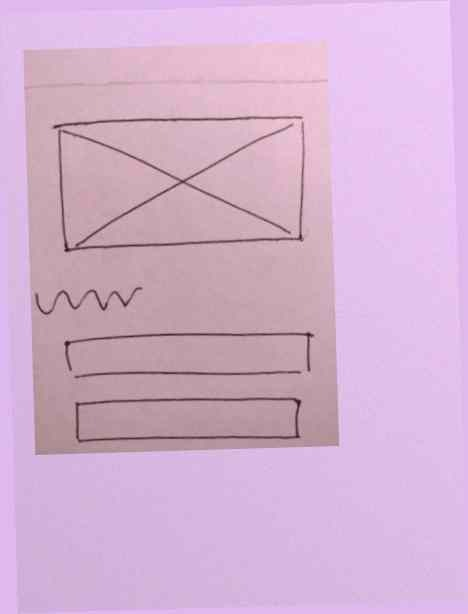image: (45, 104, 321, 267)
text: (32, 283, 146, 320)
text_input: (59, 324, 319, 388), (68, 390, 308, 451)
